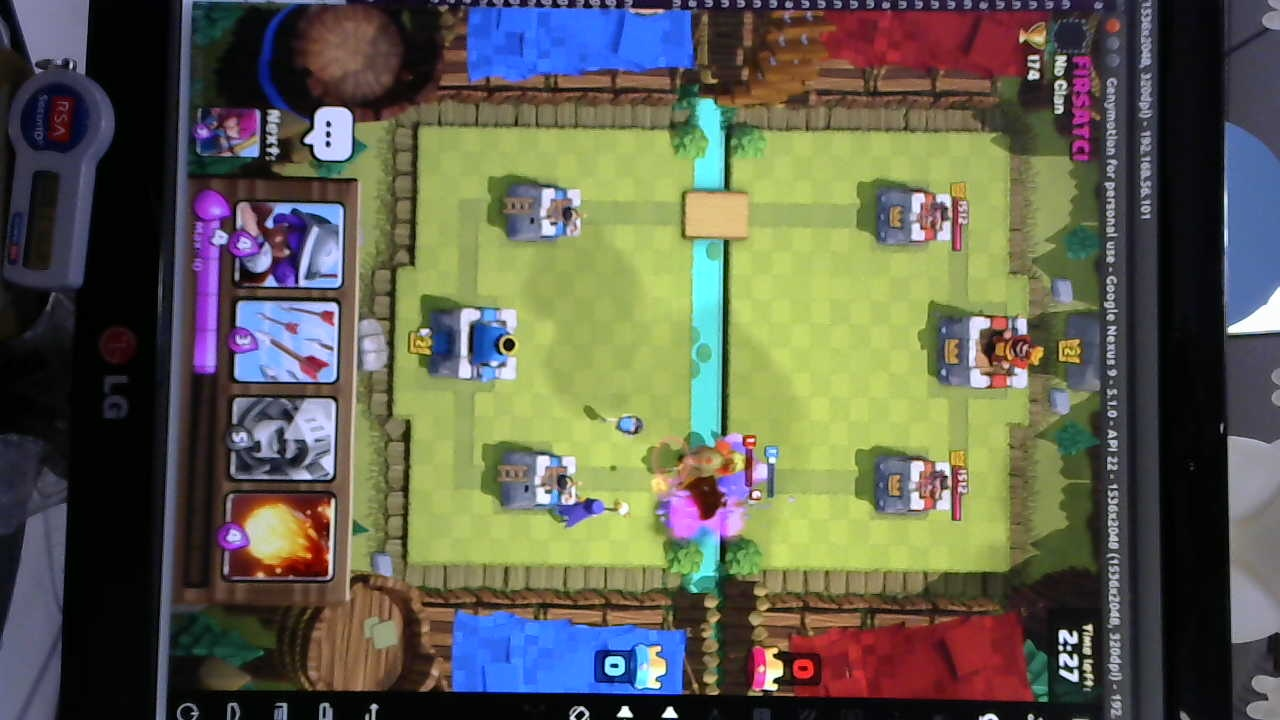arena: (501, 179, 585, 246), (500, 444, 580, 513)
bomb: (608, 403, 647, 441)
dragon: (674, 439, 739, 479)
earena: (872, 441, 951, 516), (869, 189, 955, 256)
eking: (933, 308, 1043, 393)
king: (434, 302, 524, 385)
witch: (545, 485, 616, 526)
